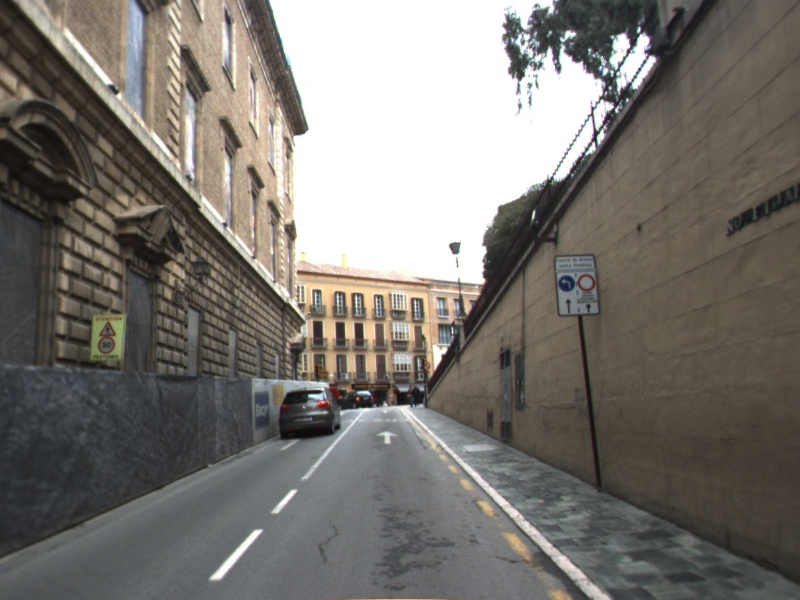STRAIGHT: (374, 428, 401, 447)
